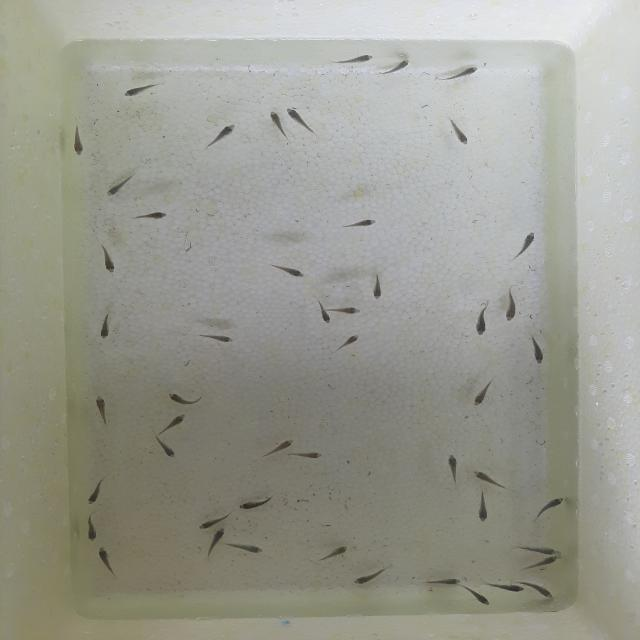fingerling: (284, 106, 319, 137), (205, 130, 234, 152), (108, 173, 138, 194), (156, 417, 188, 436), (534, 500, 564, 520), (516, 234, 538, 260), (462, 589, 492, 608), (522, 557, 560, 572), (522, 582, 555, 599), (99, 548, 119, 576), (261, 443, 292, 461), (193, 517, 227, 533), (153, 437, 177, 459), (505, 284, 520, 318), (474, 381, 495, 405), (353, 572, 387, 586), (240, 501, 275, 514), (88, 478, 106, 503), (377, 64, 409, 78), (332, 338, 360, 354), (446, 122, 466, 144), (127, 85, 160, 98), (320, 547, 350, 561), (450, 67, 480, 80), (102, 250, 118, 274), (274, 266, 305, 278), (531, 336, 545, 362), (206, 536, 224, 556), (228, 544, 263, 554), (102, 305, 114, 333), (201, 335, 234, 345), (87, 518, 100, 542), (325, 306, 359, 315), (345, 220, 375, 230), (448, 458, 461, 481), (512, 547, 558, 553), (499, 586, 531, 594), (129, 215, 164, 222), (341, 502, 353, 514), (526, 266, 542, 275), (182, 246, 198, 254)
